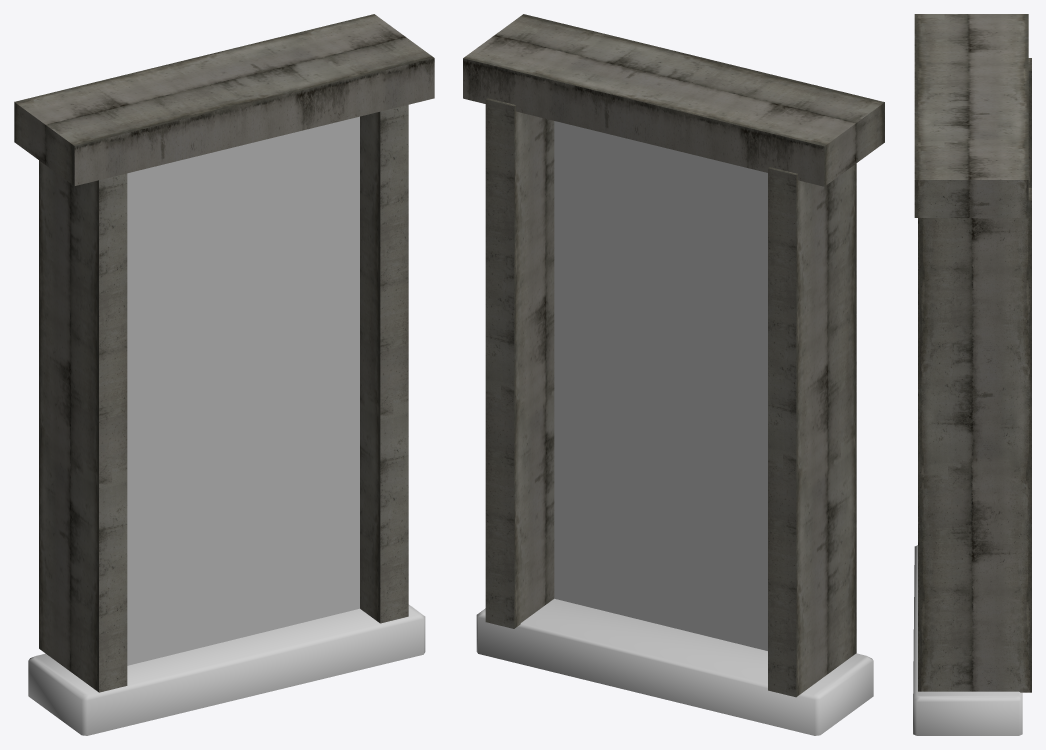
File: Window_H.FBX
3 renders of one model, left to right at view 1: azimuth 30°, elevation 25°; view 2: azimuth 150°, elevation 25°; view 3: azimuth 270°, elevation 25°, orthographic. The views are drawn at different scales.
Visible parts, largest first — view 1: Window_H; view 2: Window_H; view 3: Window_H.
Part boxes in pixels (x1,y1,x2,y2): Window_H: (14, 14, 434, 735); Window_H: (463, 14, 884, 735); Window_H: (913, 14, 1031, 735).
Size of the model in its own units: 130 by 204 by 39.29.
